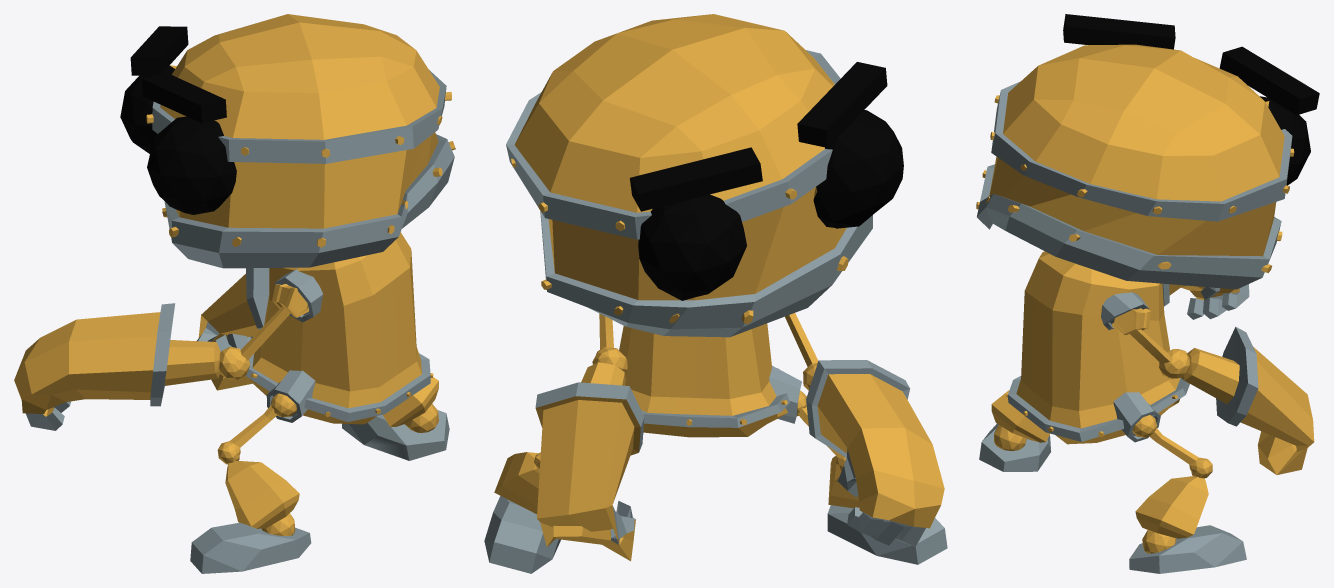
File: NPC_Robot.obj
The picture shows the model from 3 angles, left to right: view 1: azimuth 30°, elevation 25°; view 2: azimuth 150°, elevation 25°; view 3: azimuth 270°, elevation 25°; orthographic projection. The views are drawn at different scales.
Parts seen in each view (by area): view 1: Head_Cylinder_Head_Cylinder_RobotMaterial_Head_Cylinder_Head_Cyl, Torso_Cube.001_Torso_Cube.001_RobotMaterial_Torso_Cube.001_Torso, Hand.L_Cylinder.022_Hand.L_Cylinder.022_RobotMaterial_Hand.L_Cyl, Foot.L_Cylinder.014_Foot.L_Cylinder.014_RobotMaterial_Foot.L_Cyl, Hand.R_Cylinder.015_Hand.R_Cylinder.015_RobotMaterial_Hand.R_Cyl, LowerLeg.L_Cylinder.012_LowerLeg.L_Cylinder.012_RobotMaterial_Lo, Foot.R_Cylinder.017_Foot.R_Cylinder.017_RobotMaterial_Foot.R_Cyl, LowerLeg.R_Cylinder.018_LowerLeg.R_Cylinder.018_RobotMaterial_Lo, Arm.L_Cylinder.010_Arm.L_Cylinder.010_RobotMaterial_Arm.L_Cylind, Leg.L_Cylinder.011_Leg.L_Cylinder.011_RobotMaterial_Leg.L_Cylind, Shoulder.L_Cylinder.008_Shoulder.L_Cylinder.008_RobotMaterial_Sh; view 2: Head_Cylinder_Head_Cylinder_RobotMaterial_Head_Cylinder_Head_Cyl, Hand.L_Cylinder.022_Hand.L_Cylinder.022_RobotMaterial_Hand.L_Cyl, Hand.R_Cylinder.015_Hand.R_Cylinder.015_RobotMaterial_Hand.R_Cyl, Torso_Cube.001_Torso_Cube.001_RobotMaterial_Torso_Cube.001_Torso, Foot.R_Cylinder.017_Foot.R_Cylinder.017_RobotMaterial_Foot.R_Cyl, Foot.L_Cylinder.014_Foot.L_Cylinder.014_RobotMaterial_Foot.L_Cyl, LowerLeg.R_Cylinder.018_LowerLeg.R_Cylinder.018_RobotMaterial_Lo, Arm.R_Cylinder.013_Arm.R_Cylinder.013_RobotMaterial_Arm.R_Cylind, Arm.L_Cylinder.010_Arm.L_Cylinder.010_RobotMaterial_Arm.L_Cylind, LowerLeg.L_Cylinder.012_LowerLeg.L_Cylinder.012_RobotMaterial_Lo; view 3: Head_Cylinder_Head_Cylinder_RobotMaterial_Head_Cylinder_Head_Cyl, Torso_Cube.001_Torso_Cube.001_RobotMaterial_Torso_Cube.001_Torso, Hand.R_Cylinder.015_Hand.R_Cylinder.015_RobotMaterial_Hand.R_Cyl, LowerLeg.R_Cylinder.018_LowerLeg.R_Cylinder.018_RobotMaterial_Lo, Foot.R_Cylinder.017_Foot.R_Cylinder.017_RobotMaterial_Foot.R_Cyl, LowerLeg.L_Cylinder.012_LowerLeg.L_Cylinder.012_RobotMaterial_Lo, Foot.L_Cylinder.014_Foot.L_Cylinder.014_RobotMaterial_Foot.L_Cyl, Hand.L_Cylinder.022_Hand.L_Cylinder.022_RobotMaterial_Hand.L_Cyl, Arm.R_Cylinder.013_Arm.R_Cylinder.013_RobotMaterial_Arm.R_Cylind, Leg.R_Cylinder.019_Leg.R_Cylinder.019_RobotMaterial_Leg.R_Cylind, Shoulder.R_Cylinder.009_Shoulder.R_Cylinder.009_RobotMaterial_Sh.
Part boxes in pixels (x1,y1,x2,y2): Head_Cylinder_Head_Cylinder_RobotMaterial_Head_Cylinder_Head_Cyl: (120,14,455,268); Torso_Cube.001_Torso_Cube.001_RobotMaterial_Torso_Cube.001_Torso: (245,232,433,424); Hand.L_Cylinder.022_Hand.L_Cylinder.022_RobotMaterial_Hand.L_Cyl: (14,303,220,430); Foot.L_Cylinder.014_Foot.L_Cylinder.014_RobotMaterial_Foot.L_Cyl: (190,522,311,573); Hand.R_Cylinder.015_Hand.R_Cylinder.015_RobotMaterial_Hand.R_Cyl: (197,268,269,390); LowerLeg.L_Cylinder.012_LowerLeg.L_Cylinder.012_RobotMaterial_Lo: (225,460,299,535); Foot.R_Cylinder.017_Foot.R_Cylinder.017_RobotMaterial_Foot.R_Cyl: (342,410,449,460); LowerLeg.R_Cylinder.018_LowerLeg.R_Cylinder.018_RobotMaterial_Lo: (383,377,438,432); Arm.L_Cylinder.010_Arm.L_Cylinder.010_RobotMaterial_Arm.L_Cylind: (219,306,290,379); Leg.L_Cylinder.011_Leg.L_Cylinder.011_RobotMaterial_Leg.L_Cylind: (217,405,277,464); Shoulder.L_Cylinder.008_Shoulder.L_Cylinder.008_RobotMaterial_Sh: (272,283,308,317); Head_Cylinder_Head_Cylinder_RobotMaterial_Head_Cylinder_Head_Cyl: (506,14,903,337); Hand.L_Cylinder.022_Hand.L_Cylinder.022_RobotMaterial_Hand.L_Cyl: (806,360,944,546); Hand.R_Cylinder.015_Hand.R_Cylinder.015_RobotMaterial_Hand.R_Cyl: (535,362,644,561); Torso_Cube.001_Torso_Cube.001_RobotMaterial_Torso_Cube.001_Torso: (619,323,806,437); Foot.R_Cylinder.017_Foot.R_Cylinder.017_RobotMaterial_Foot.R_Cyl: (484,496,560,573); Foot.L_Cylinder.014_Foot.L_Cylinder.014_RobotMaterial_Foot.L_Cyl: (827,505,947,564); LowerLeg.R_Cylinder.018_LowerLeg.R_Cylinder.018_RobotMaterial_Lo: (494,452,539,514); Arm.R_Cylinder.013_Arm.R_Cylinder.013_RobotMaterial_Arm.R_Cylind: (592,313,627,372); Arm.L_Cylinder.010_Arm.L_Cylinder.010_RobotMaterial_Arm.L_Cylind: (785,313,818,390); LowerLeg.L_Cylinder.012_LowerLeg.L_Cylinder.012_RobotMaterial_Lo: (828,456,859,508); Head_Cylinder_Head_Cylinder_RobotMaterial_Head_Cylinder_Head_Cyl: (976,14,1319,289); Torso_Cube.001_Torso_Cube.001_RobotMaterial_Torso_Cube.001_Torso: (1006,251,1189,444); Hand.R_Cylinder.015_Hand.R_Cylinder.015_RobotMaterial_Hand.R_Cyl: (1180,326,1314,474); LowerLeg.R_Cylinder.018_LowerLeg.R_Cylinder.018_RobotMaterial_Lo: (1135,476,1208,553); Foot.R_Cylinder.017_Foot.R_Cylinder.017_RobotMaterial_Foot.R_Cyl: (1129,525,1246,573); LowerLeg.L_Cylinder.012_LowerLeg.L_Cylinder.012_RobotMaterial_Lo: (991,390,1049,450); Foot.L_Cylinder.014_Foot.L_Cylinder.014_RobotMaterial_Foot.L_Cyl: (979,423,1051,471); Hand.L_Cylinder.022_Hand.L_Cylinder.022_RobotMaterial_Hand.L_Cyl: (1162,283,1249,319); Arm.R_Cylinder.013_Arm.R_Cylinder.013_RobotMaterial_Arm.R_Cylind: (1130,329,1190,379); Leg.R_Cylinder.019_Leg.R_Cylinder.019_RobotMaterial_Leg.R_Cylind: (1149,428,1212,478); Shoulder.R_Cylinder.009_Shoulder.R_Cylinder.009_RobotMaterial_Sh: (1113,308,1150,334).
Bounding box in the file's own units: 19.63 × 20.92 × 14.61.
